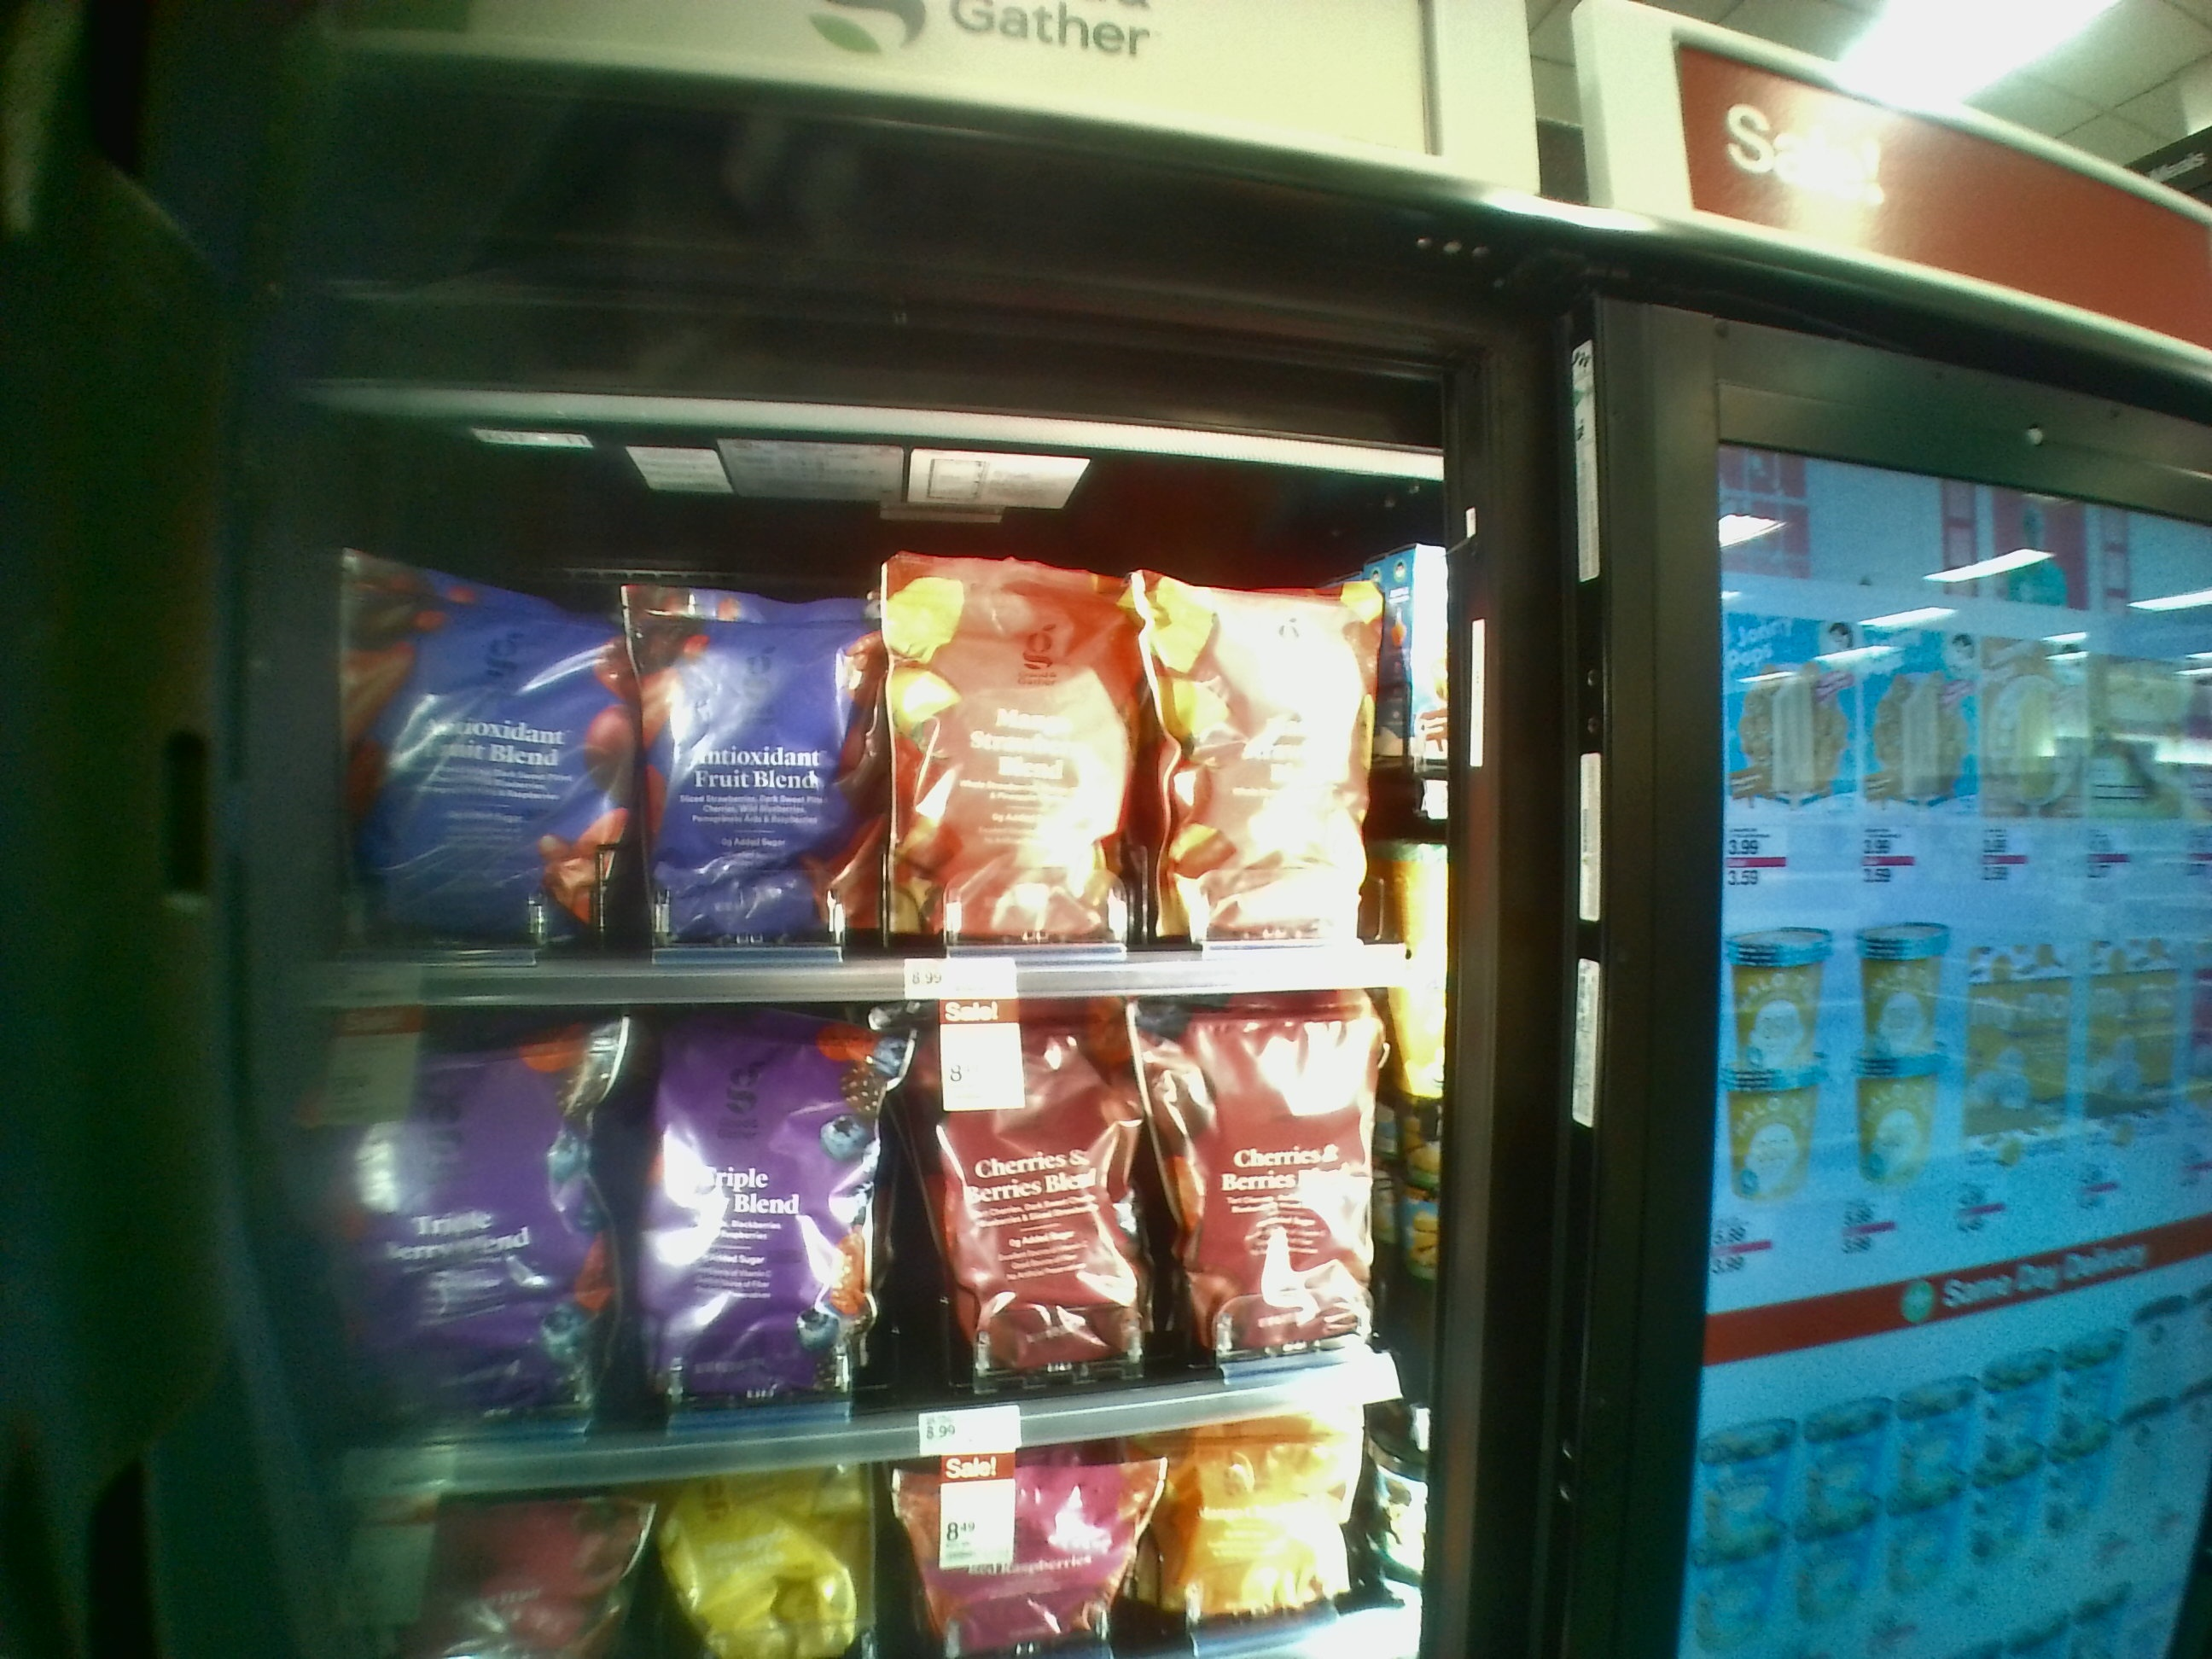shelf: (286, 415, 1444, 1012), (300, 1009, 1440, 1455)
